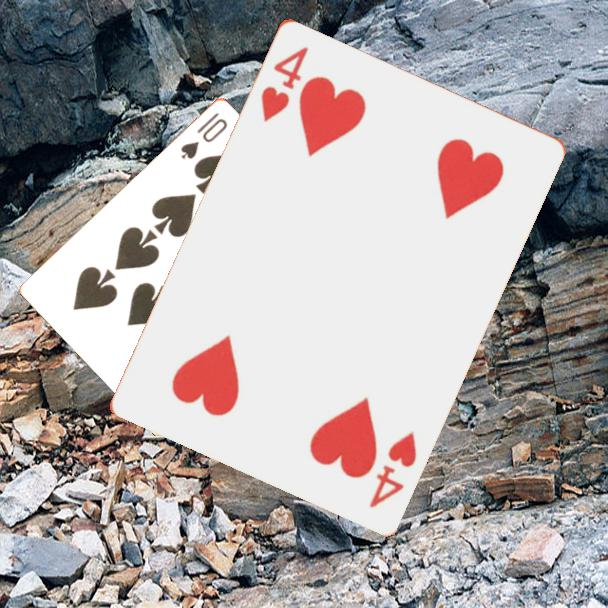h04: (365, 426, 420, 510), (257, 42, 311, 125)
s10: (177, 108, 230, 162)
